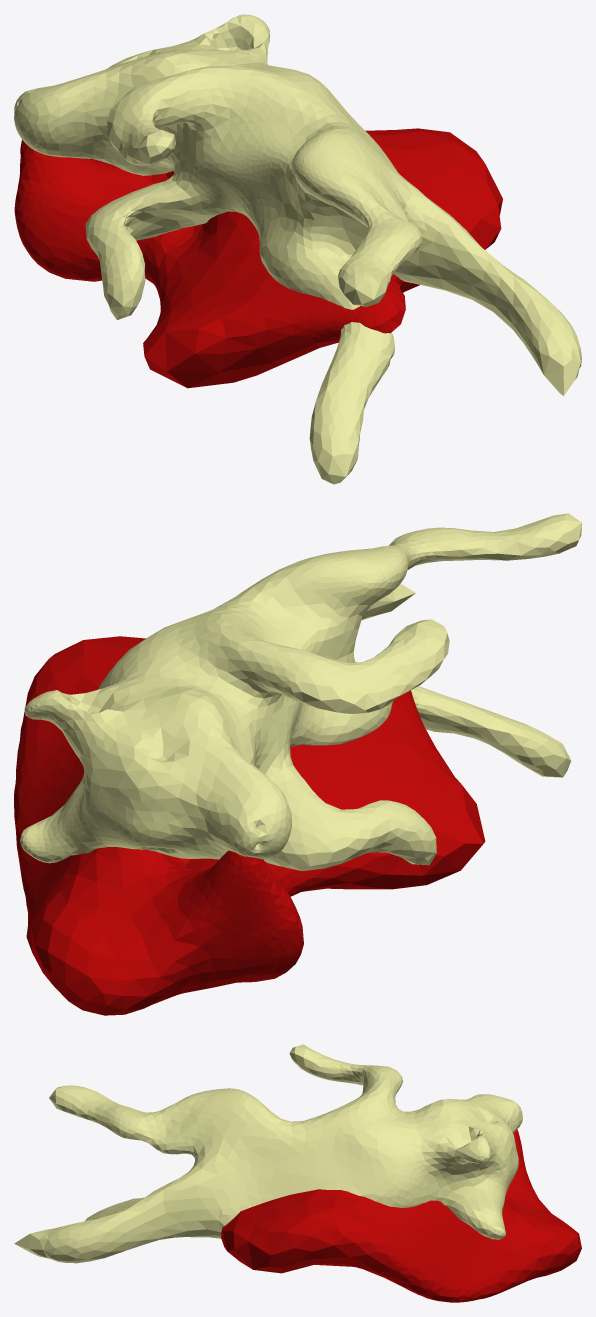
The model's file is WoundedPuppy.fbx.
3 renders of one model, top to bottom at view 1: azimuth 30°, elevation 25°; view 2: azimuth 150°, elevation 25°; view 3: azimuth 270°, elevation 25°, orthographic. The views are drawn at different scales.
Parts seen in each view (by area): view 1: polySurface2, polySurface3; view 2: polySurface2, polySurface3; view 3: polySurface2, polySurface3.
Boxes of the visible parts, <box> form: polySurface2: <box>14,14,581,484</box>; polySurface3: <box>14,128,502,388</box>; polySurface2: <box>20,513,581,870</box>; polySurface3: <box>14,636,485,1015</box>; polySurface2: <box>14,1044,522,1263</box>; polySurface3: <box>221,1129,581,1302</box>.
Bounding box in the file's own units: 2.18 × 1.46 × 4.1.
